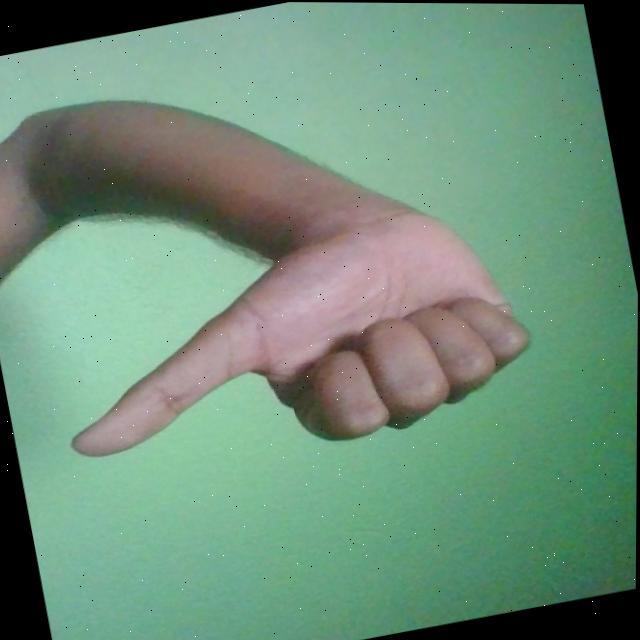Dislike: (36, 185, 544, 492)
